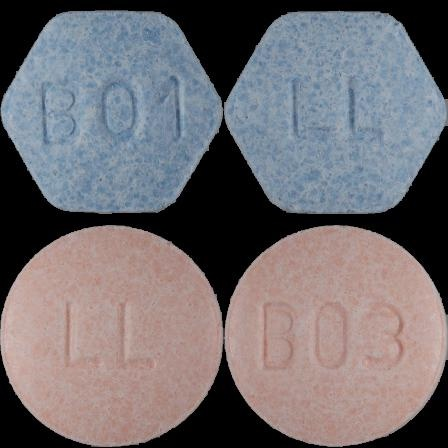35356-777: (0, 0, 224, 224)
